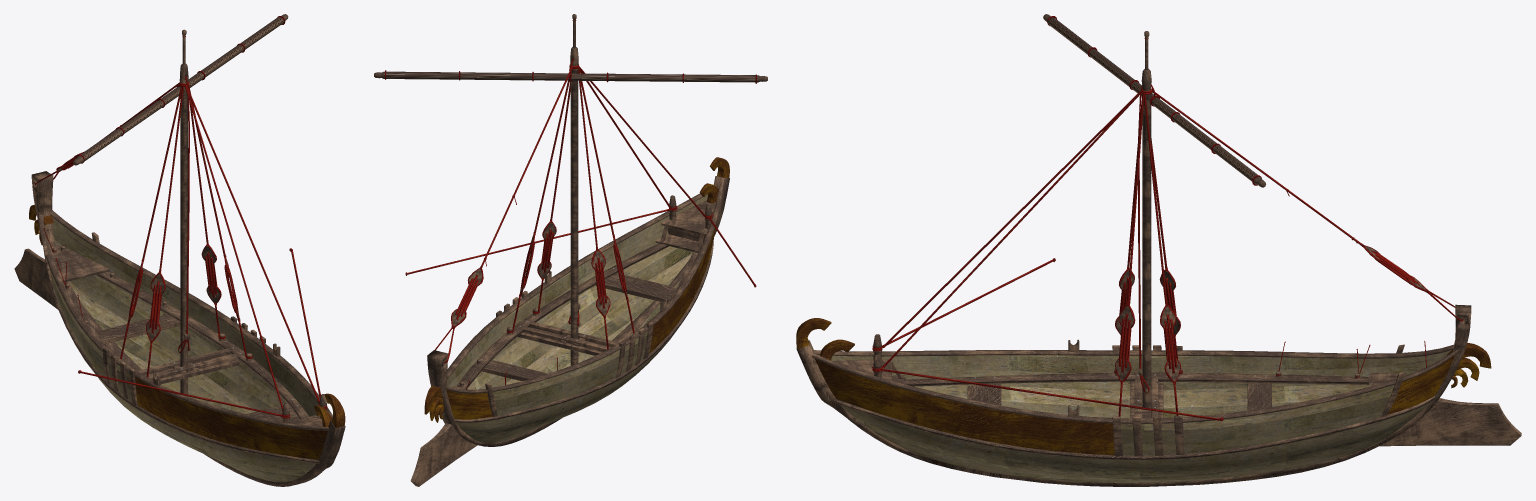
File: wreck_boat.glb
The picture shows the model from 3 angles, left to right: view 1: azimuth 30°, elevation 25°; view 2: azimuth 150°, elevation 25°; view 3: azimuth 270°, elevation 25°; orthographic projection. The views are drawn at different scales.
Parts seen in each view (by area): view 1: LOD0; view 2: LOD0; view 3: LOD0.
Boxes of the visible parts, x1=… form: LOD0: x1=14, y1=14, x2=345, y2=486; LOD0: x1=374, y1=14, x2=767, y2=486; LOD0: x1=796, y1=14, x2=1521, y2=486.
Size of what is drawn, in the model's own units: 4.36 by 5.43 by 7.88.
Materials: 5 (4 with a texture image).
